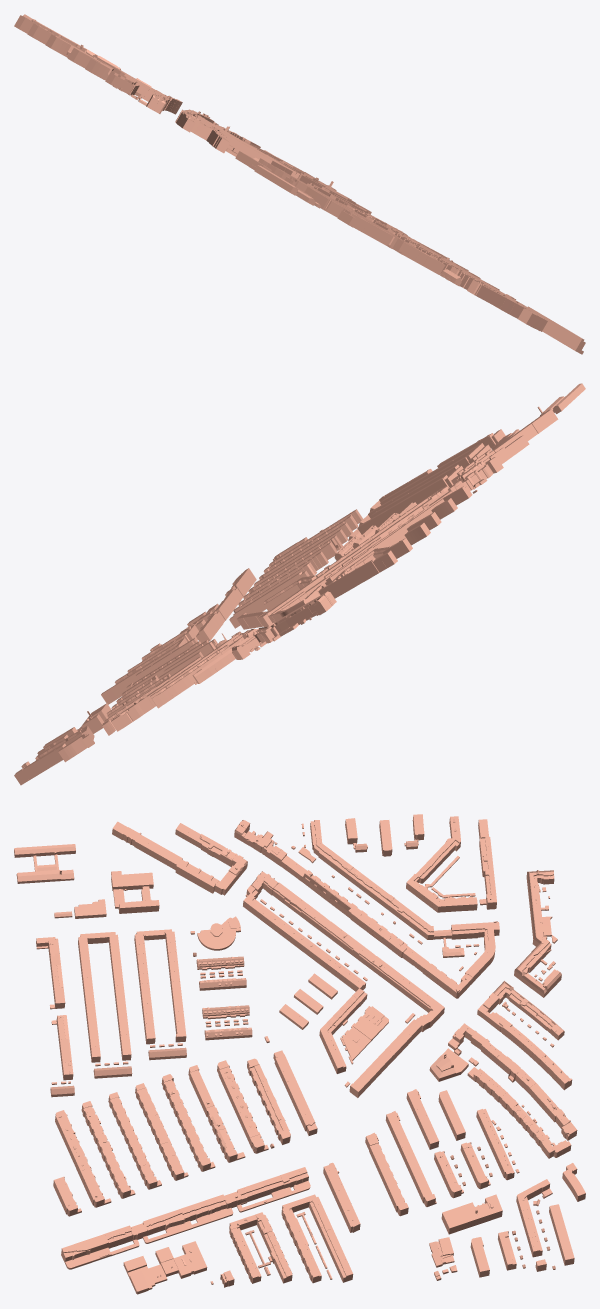
3 views of the same model, one above another, from view 1: azimuth 30°, elevation 25°; view 2: azimuth 150°, elevation 25°; view 3: azimuth 270°, elevation 25° (orthographic).
Size of the model in its own units: 1.69e+07 by 1.26e+07 by 2.18e+07.
